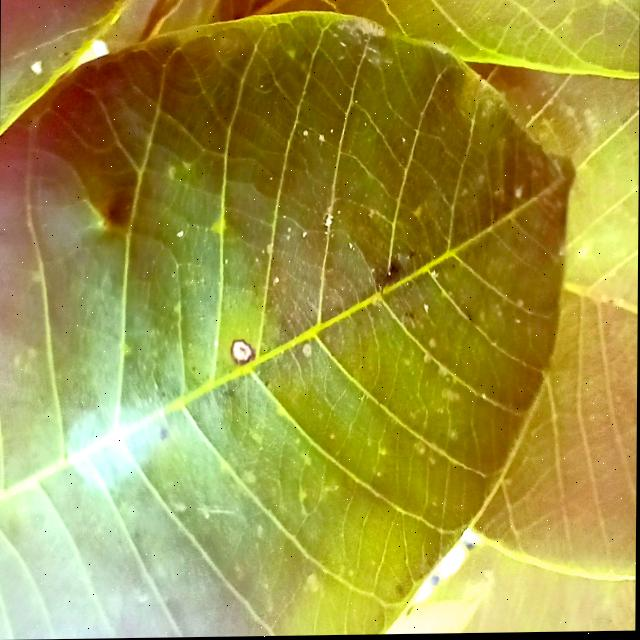Colletotrichum: (230, 340, 255, 368)
